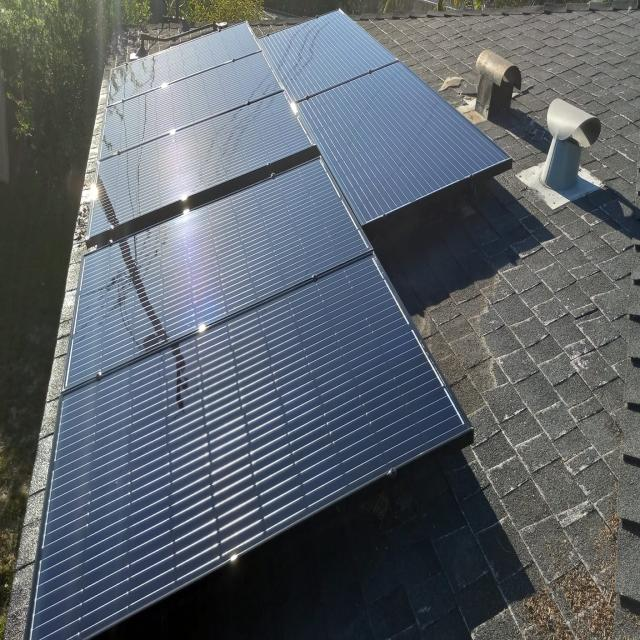clean-solar-panel: (28, 13, 509, 638)
